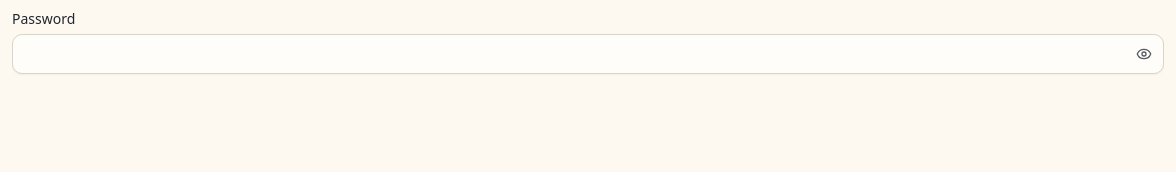
Test: PasswordInput › toggles visibility accessibly
This screenshot has width=1176, height=172.
What coordinates should you click on to do the following:
click the button named "Show password"
I would click on:
 (1144, 54)
Its box is top-left (1124, 34), bottom-right (1164, 74).
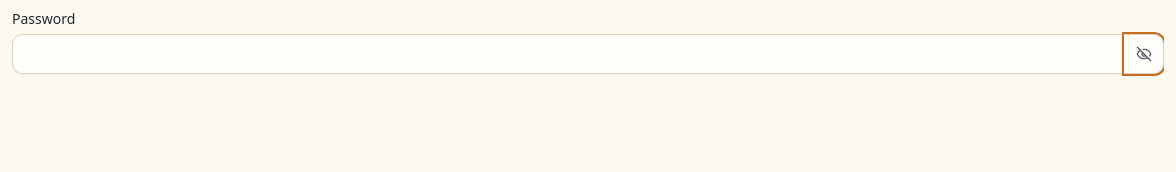
Result: the button named "Hide password" is pressed at top-left (1124, 34), bottom-right (1164, 74)
